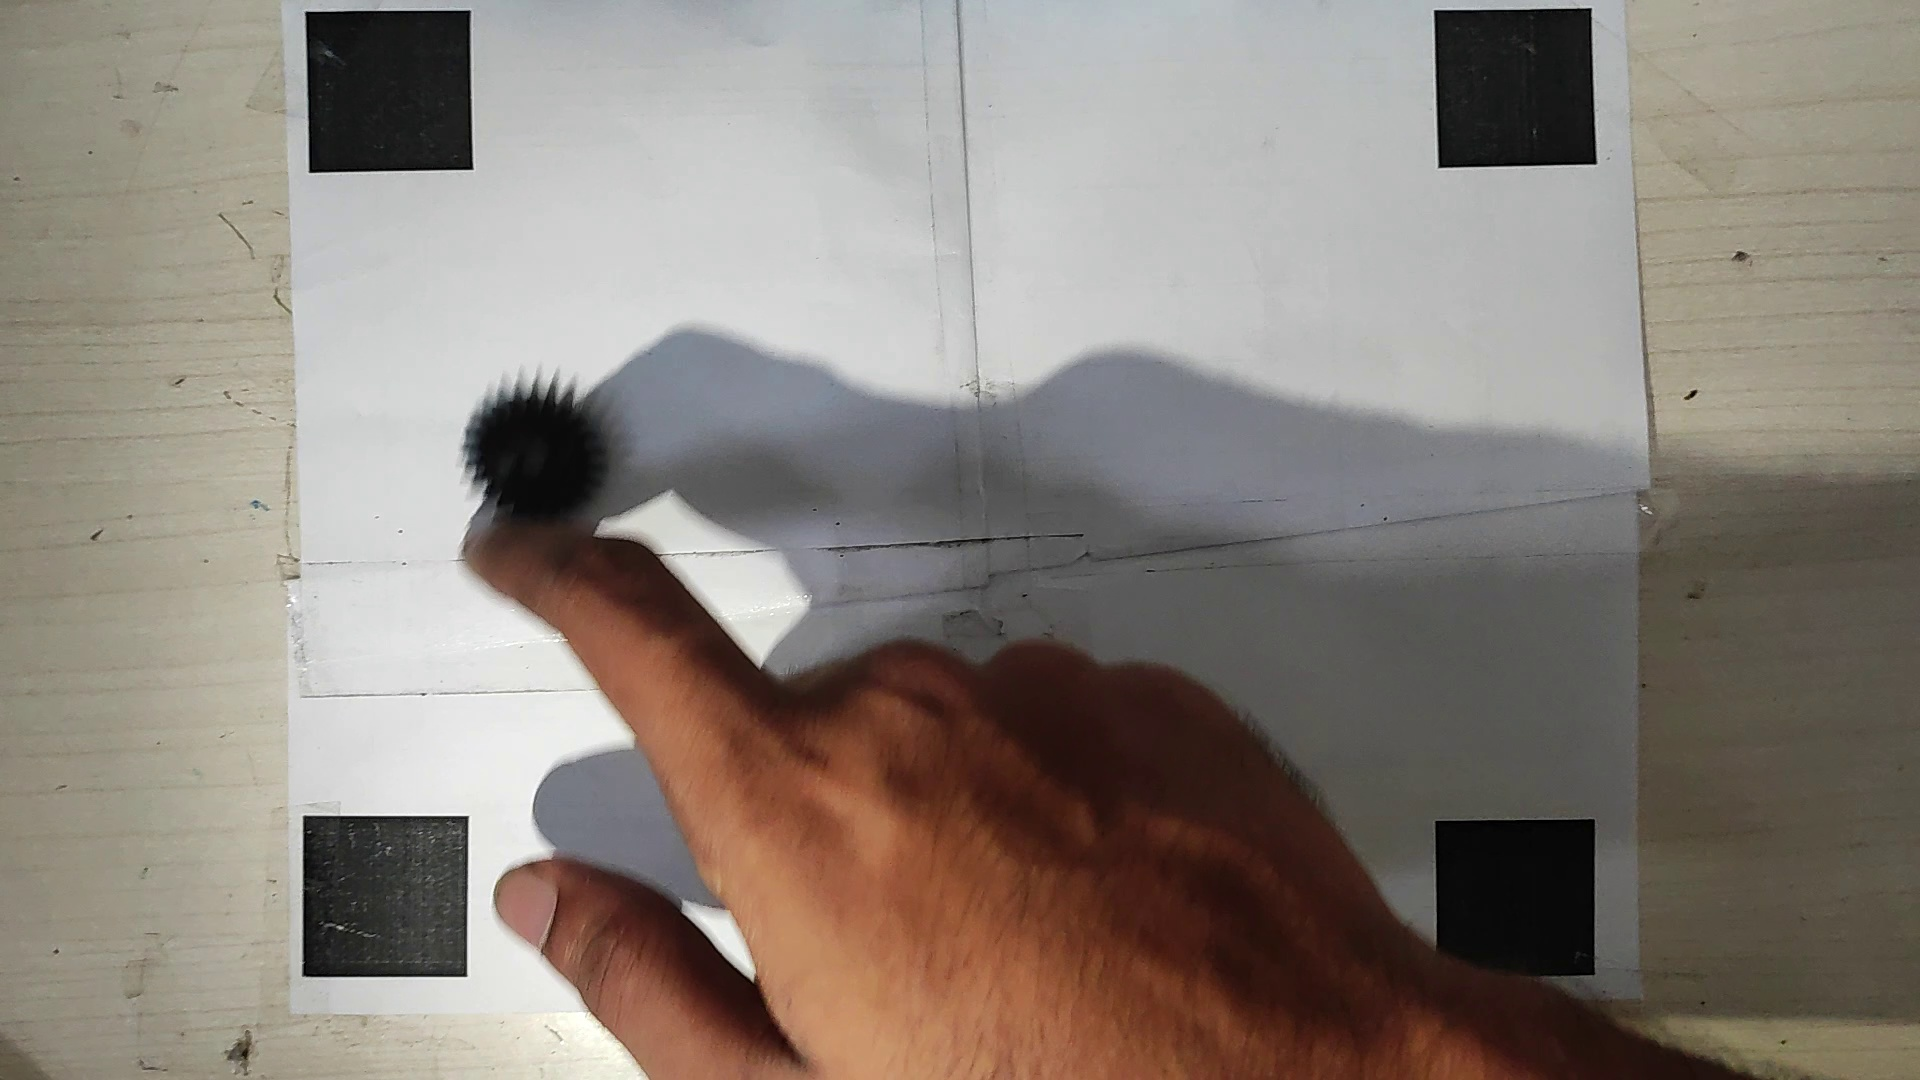Gear: (460, 377, 613, 522)
